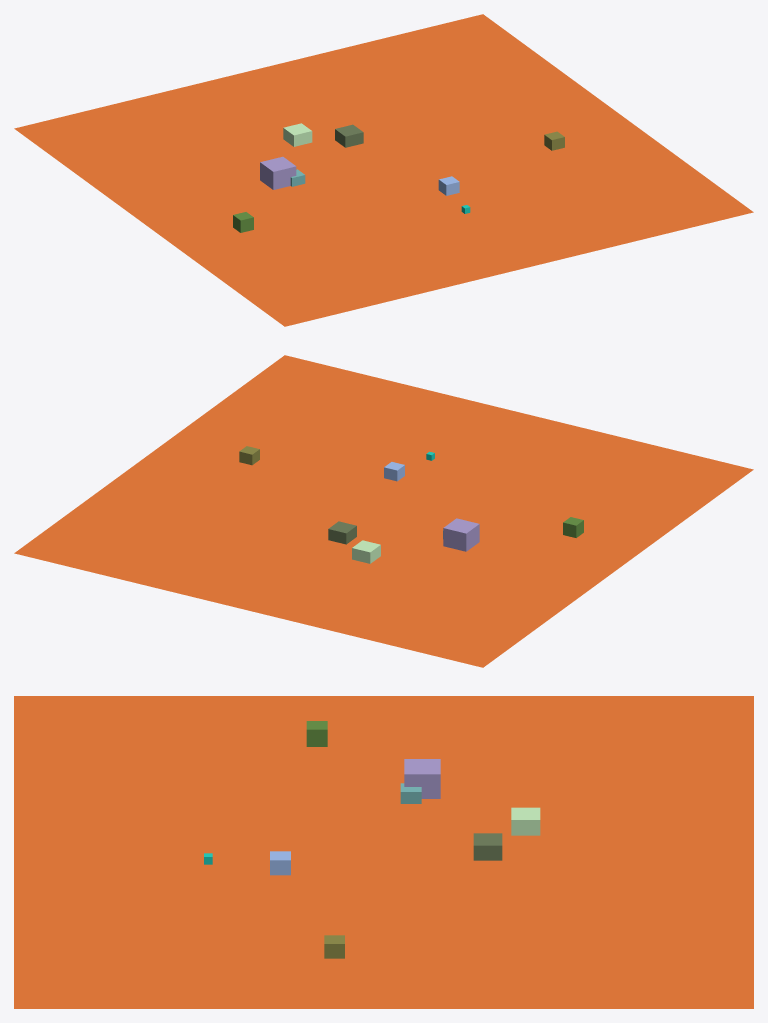
The picture shows the model from 3 angles, top to bottom: view 1: azimuth 30°, elevation 25°; view 2: azimuth 150°, elevation 25°; view 3: azimuth 270°, elevation 25°; orthographic projection. The views are drawn at different scales.
Parts seen in each view (by area): view 1: Chunk_2_-2; view 2: Chunk_2_-2; view 3: Chunk_2_-2.
Boxes of the visible parts, bbox=[...] form: Chunk_2_-2: bbox=[14, 14, 753, 326]; Chunk_2_-2: bbox=[14, 355, 753, 667]; Chunk_2_-2: bbox=[14, 696, 753, 1008].
Bounding box in the file's own units: 1500 × 79.58 × 1500.
